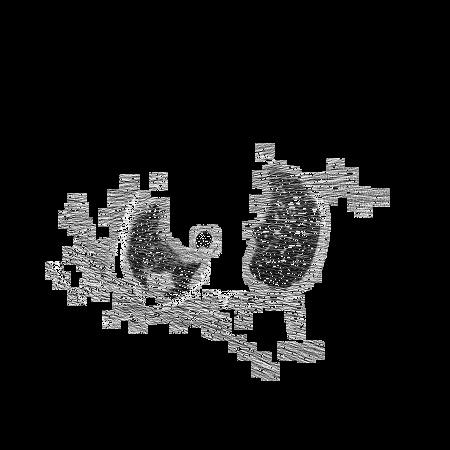PN: (145, 267, 173, 295)
